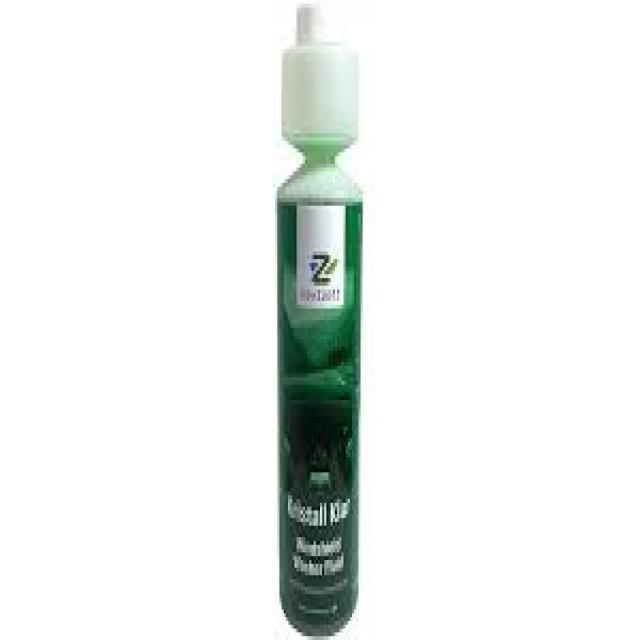winwinshield_washer: (272, 0, 368, 640)
